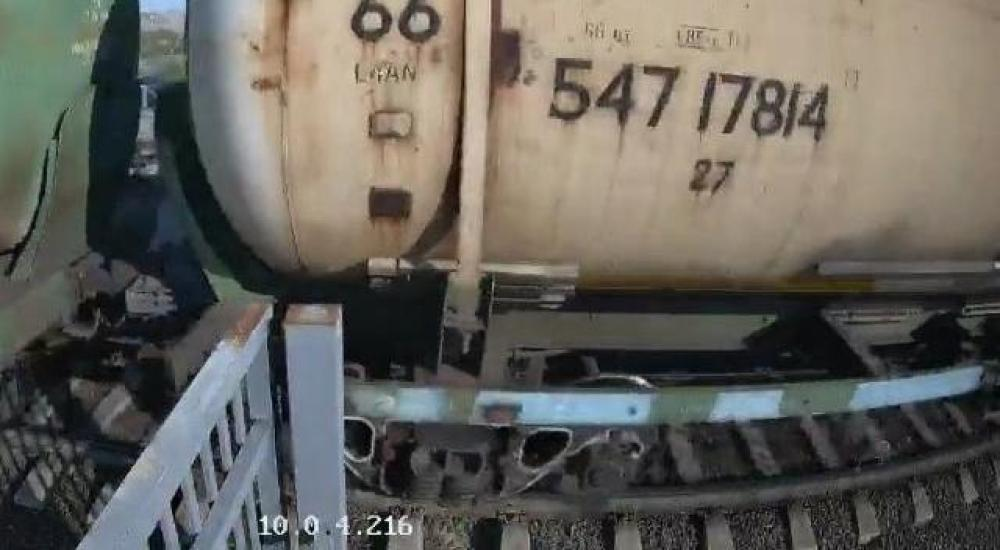Wagon-number: (544, 50, 835, 148)
